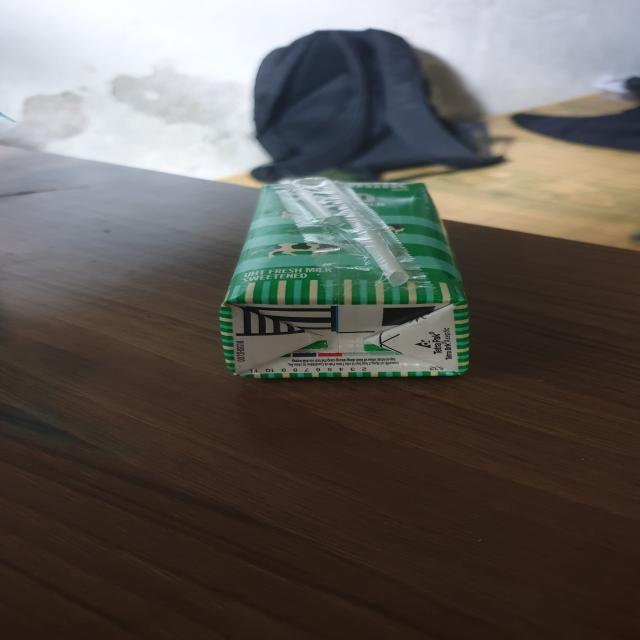Vina: (219, 181, 474, 381)
